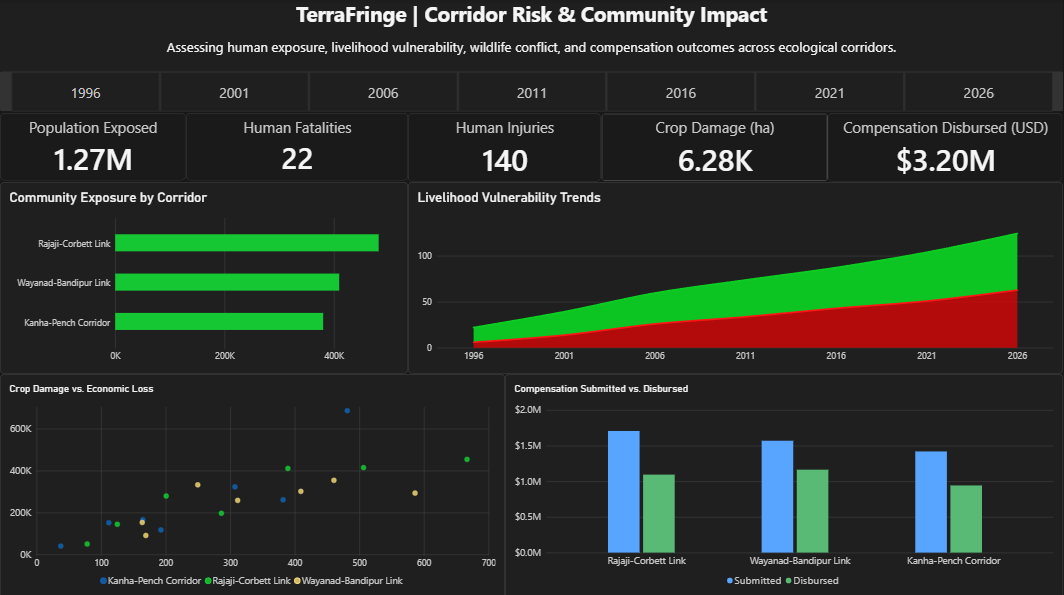

The dashboard page shown, as its layout file describes it:
{"tool":"powerbi","page":{"name":"Page 2","canvas":[1920,1080],"ordinal":1},"visuals":[{"type":"cardVisual","fields":{"Data":["Sum(fact_fringe_population_vulnerability.fringe_population_exposed)"]},"box":[0,204.2,335.2,122.1],"z":0},{"type":"cardVisual","fields":{"Data":["Sum(fact_human_wildlife_conflict.human_casualties_injuries)"]},"box":[736.9,204.2,348.5,124.3],"z":1000},{"type":"cardVisual","fields":{"Data":["Sum(fact_human_wildlife_conflict.human_casualties_fatalities)"]},"box":[335.2,204.2,401.8,122.1],"z":2000},{"type":"cardVisual","fields":{"Data":["Sum(fact_human_wildlife_conflict.compensation_claims_disbursed_usd)"]},"box":[1496,204.2,424,124.3],"z":3000},{"type":"shape","box":[0,128.7,1920,73.2],"z":4000},{"type":"slicer","fields":{"Values":["Dim_Epoch.EpochYear"]},"box":[0,128.7,1920,75.5],"z":5000},{"type":"cardVisual","fields":{"Data":["Sum(fact_human_wildlife_conflict.crop_depredation_hectares)"]},"box":[1085.4,204.2,410.6,124.3],"z":6000},{"type":"clusteredBarChart","title":"Community Exposure by Corridor","fields":{"Category":["dim_eco_zones.zone_name"],"Y":["Sum(fact_fringe_population_vulnerability.fringe_population_exposed)"]},"box":[0,328.5,736.9,346.3],"z":6001},{"type":"scatterChart","title":"Crop Damage vs. Economic Loss","fields":{"Series":["dim_eco_zones.zone_name"],"X":["fact_human_wildlife_conflict.crop_depredation_hectares"],"Y":["Sum(fact_human_wildlife_conflict.economic_crop_loss_val_usd)"]},"box":[0,674.8,912.3,406.2],"z":6002}]}

Visuals, with their boxes in screenshot pixels (x1, y1, x2, y2), scaled from the page's 1920x1080 canvas onto the 1064x595 screenshot:
cardVisual - Sum(fact_fringe_population_vulnerability.fringe_population_exposed): bbox(0, 112, 186, 180)
cardVisual - Sum(fact_human_wildlife_conflict.human_casualties_injuries): bbox(408, 112, 601, 181)
cardVisual - Sum(fact_human_wildlife_conflict.human_casualties_fatalities): bbox(186, 112, 408, 180)
cardVisual - Sum(fact_human_wildlife_conflict.compensation_claims_disbursed_usd): bbox(829, 112, 1063, 181)
shape: bbox(0, 71, 1063, 111)
slicer - Dim_Epoch.EpochYear: bbox(0, 71, 1063, 112)
cardVisual - Sum(fact_human_wildlife_conflict.crop_depredation_hectares): bbox(601, 112, 829, 181)
"Community Exposure by Corridor" clusteredBarChart: bbox(0, 181, 408, 372)
"Crop Damage vs. Economic Loss" scatterChart: bbox(0, 372, 506, 594)
